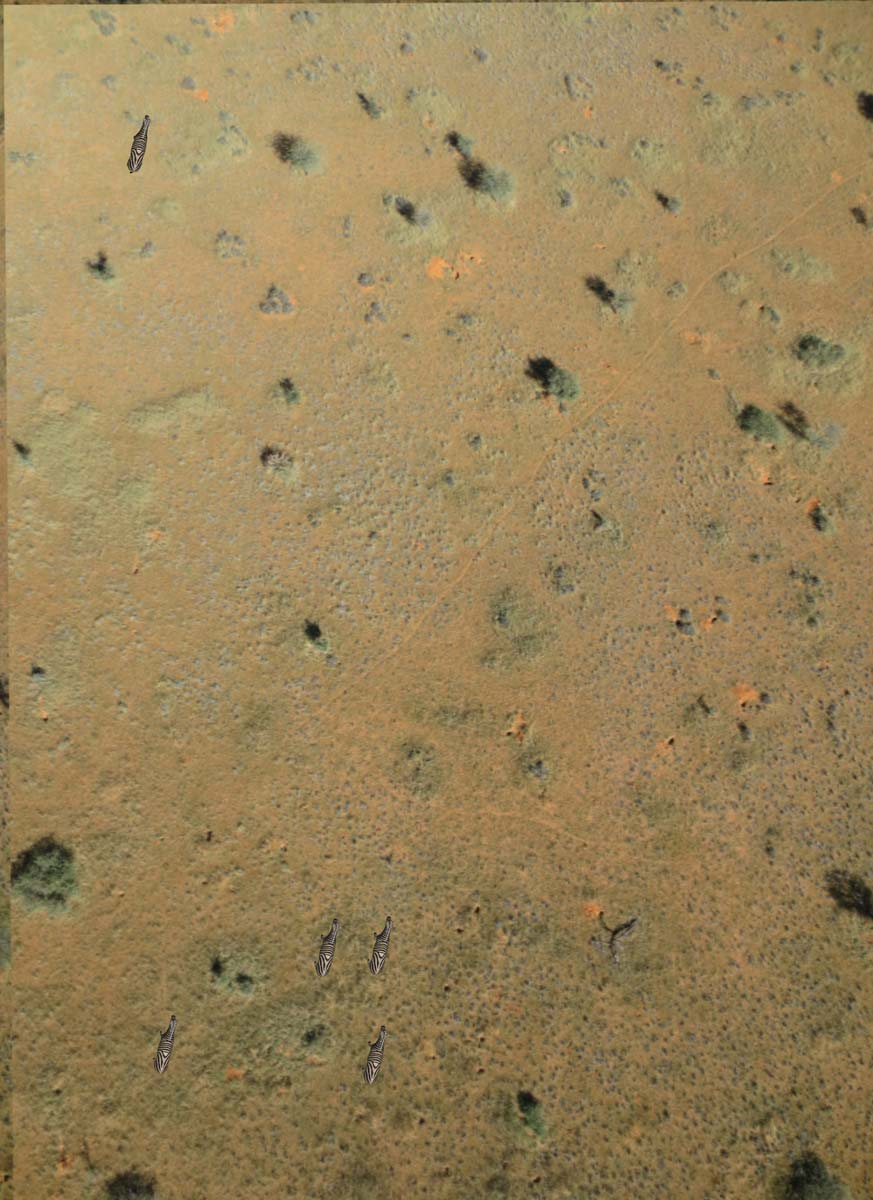zebra: (123, 112, 160, 177), (361, 917, 398, 982), (309, 916, 346, 981), (149, 1012, 186, 1077), (360, 1020, 397, 1085)
